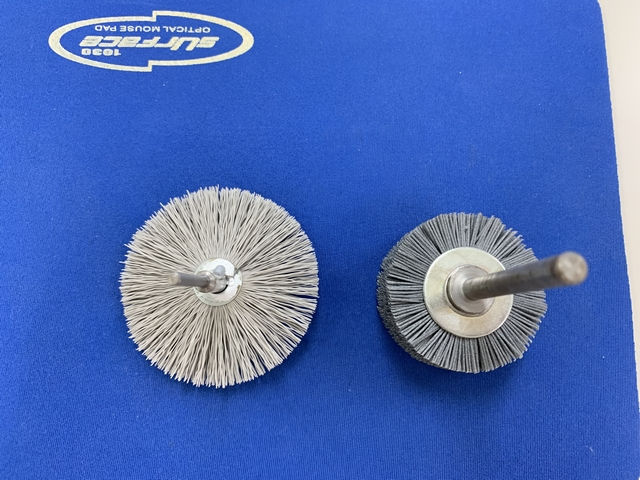TOOL: (115, 182, 316, 394), (151, 181, 308, 395), (112, 179, 259, 386), (109, 173, 315, 312), (113, 254, 318, 384)
Wheel Brush: (366, 180, 596, 387), (400, 179, 556, 393), (371, 262, 599, 403), (367, 177, 517, 383), (366, 179, 590, 316)
